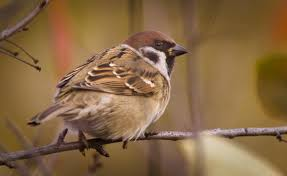hsparrow: (26, 27, 195, 161)
